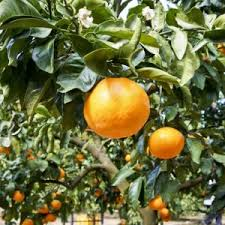orange: (83, 75, 150, 140), (149, 125, 185, 161)
